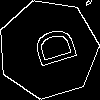D: (23, 24, 78, 73)
